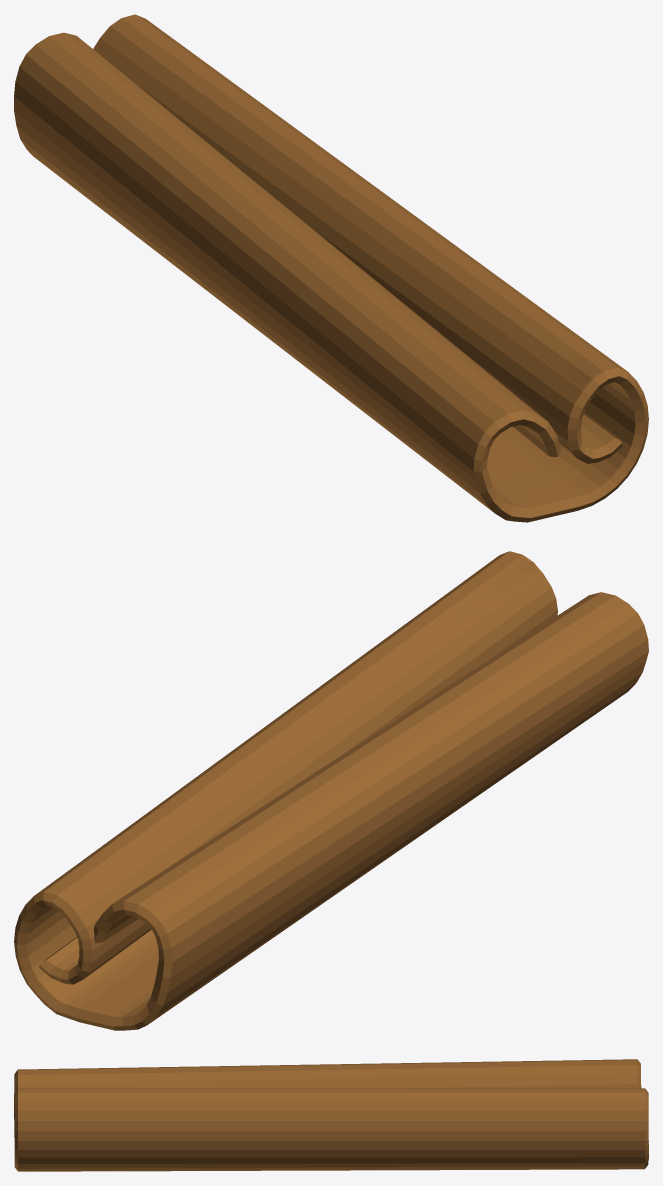
The model's file is cinamon stick.fbx.
3 views of the same model, one above another, from view 1: azimuth 30°, elevation 25°; view 2: azimuth 150°, elevation 25°; view 3: azimuth 270°, elevation 25° (orthographic). The views are drawn at different scales.
Visible parts, largest first — view 1: Cylinder; view 2: Cylinder; view 3: Cylinder.
Part boxes in pixels (x1,y1,x2,y2): Cylinder: (14,14,648,522); Cylinder: (14,551,648,1030); Cylinder: (14,1059,648,1171).
Bounding box in the file's own units: 85 × 64.09 × 410.
